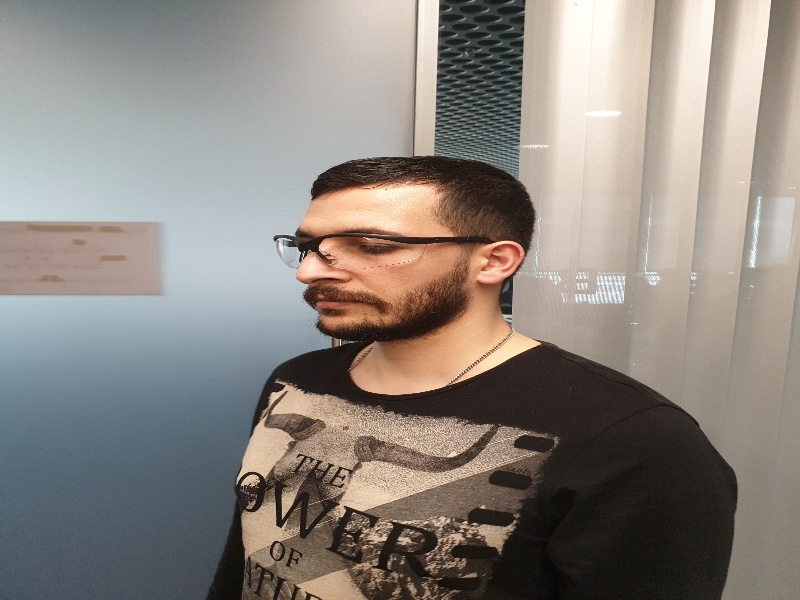Gozluk: (272, 233, 498, 273)
